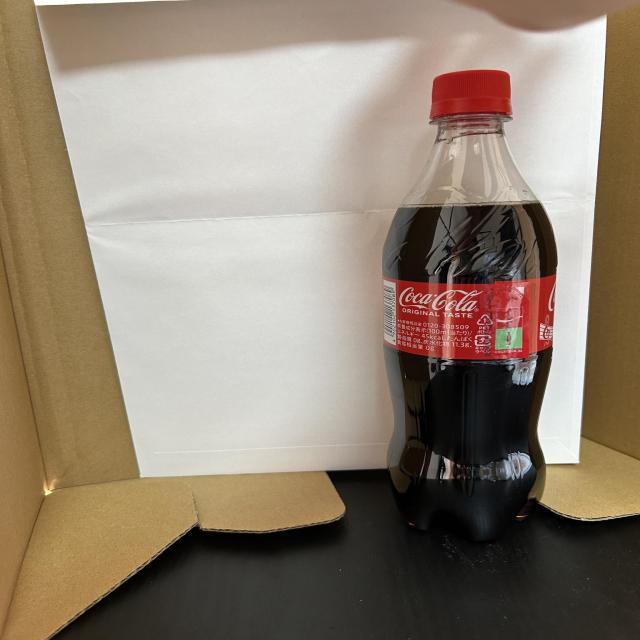high: (382, 69, 557, 540)
